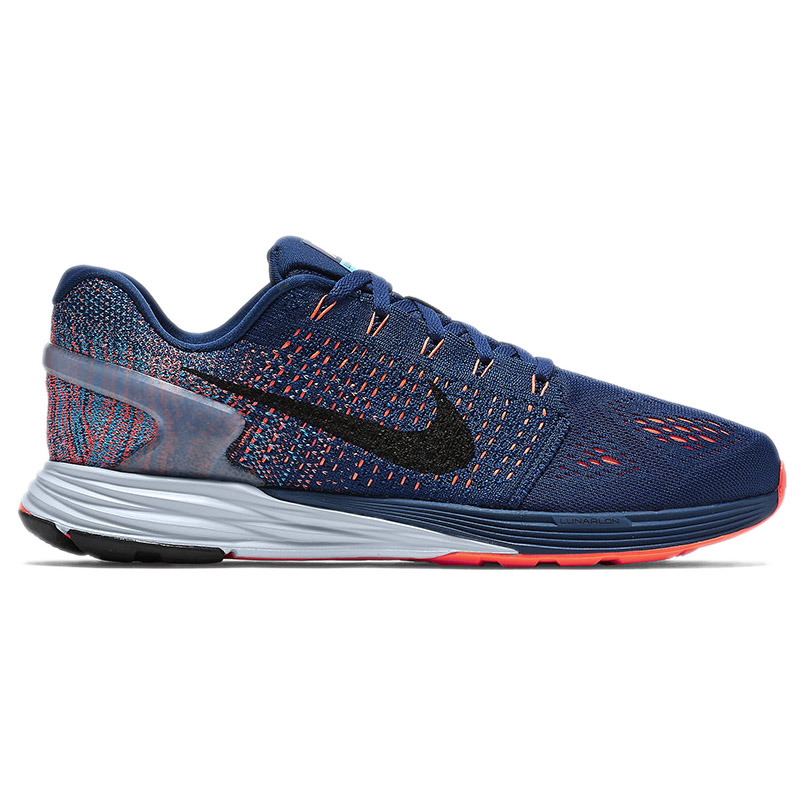Nike: (171, 361, 482, 482)
